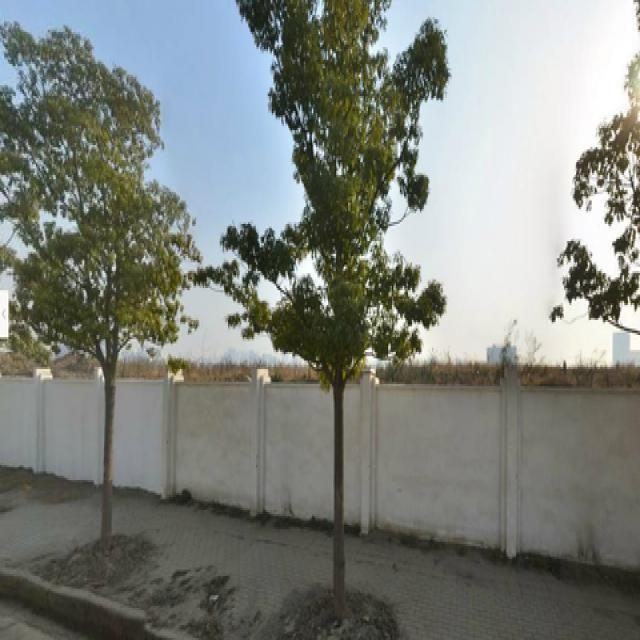cinn: (245, 4, 411, 600)
